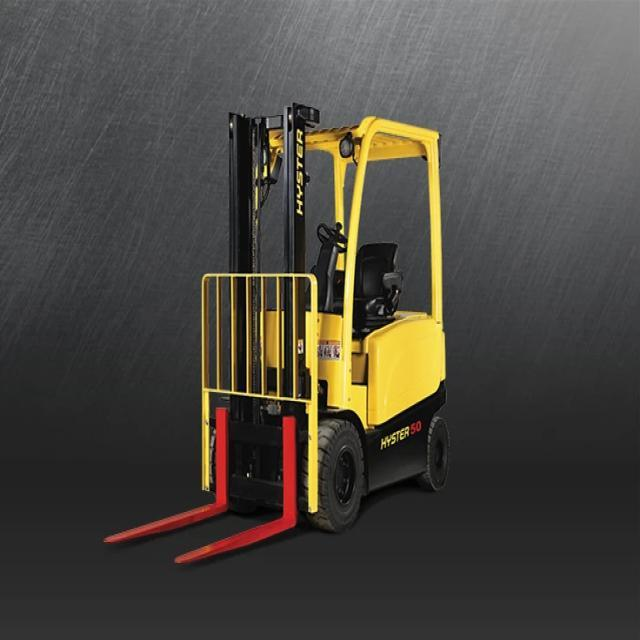forklift: (188, 84, 466, 539)
